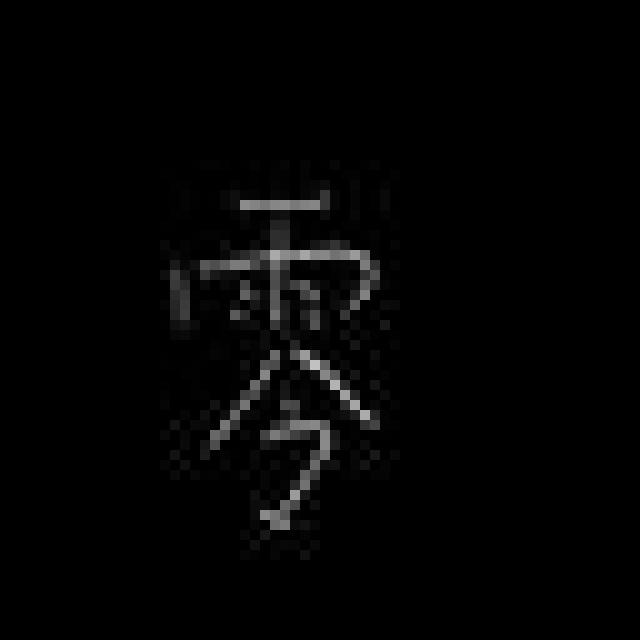0 -zero-: (163, 180, 392, 537)
